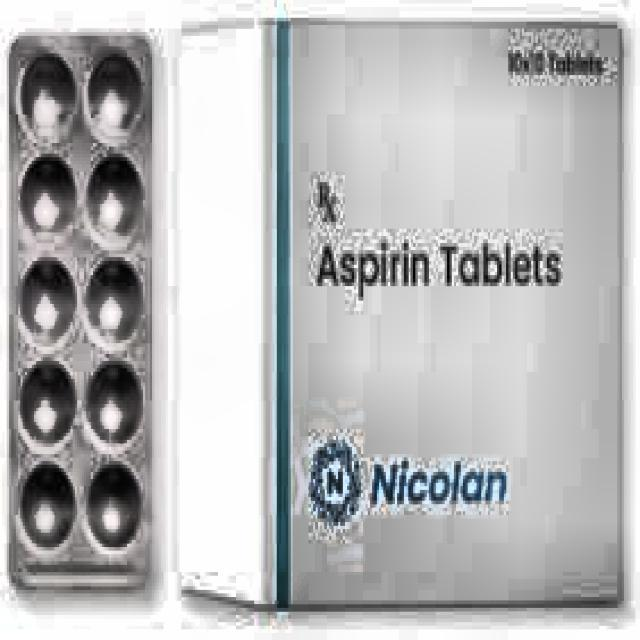Aspirin: (303, 210, 583, 328)
